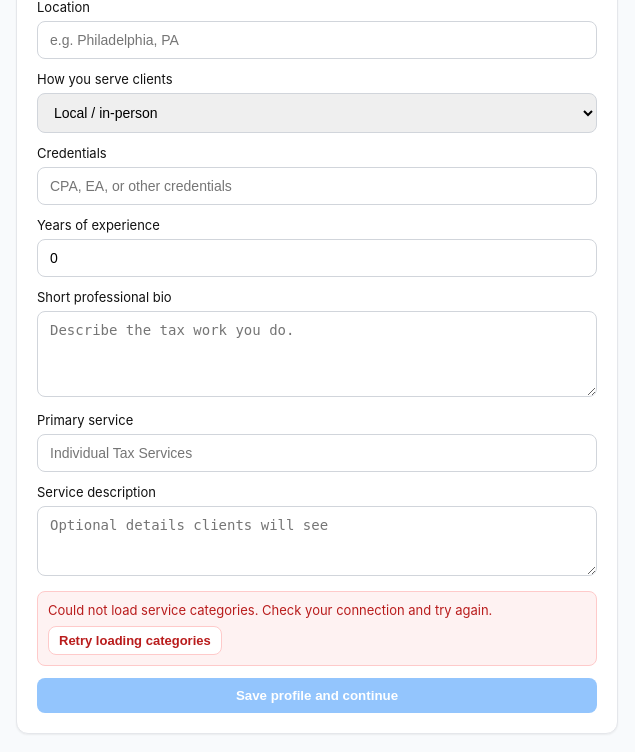
Test: onboarding shows failure/retry instead of empty-state on load error
The image size is (635, 752).
(page scrolled)
Expected: the text "Could not load service categories" is shown, x1=48 y1=602 x2=492 y2=618
Click the button "Retry loading categories": x=135, y=641 x1=48 y1=626 x2=222 y2=655
(page scrolled)
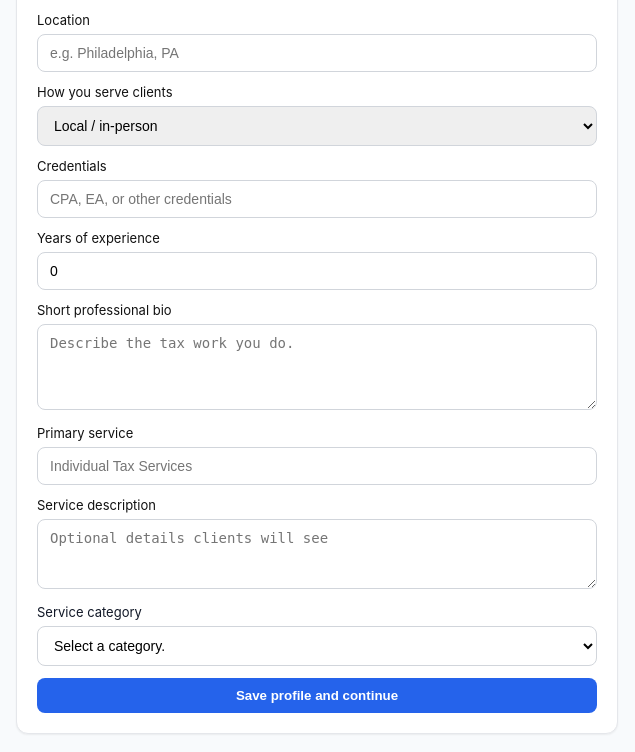
Result: the dropdown labelled "Service category" is enabled at x1=37 y1=626 x2=597 y2=666
